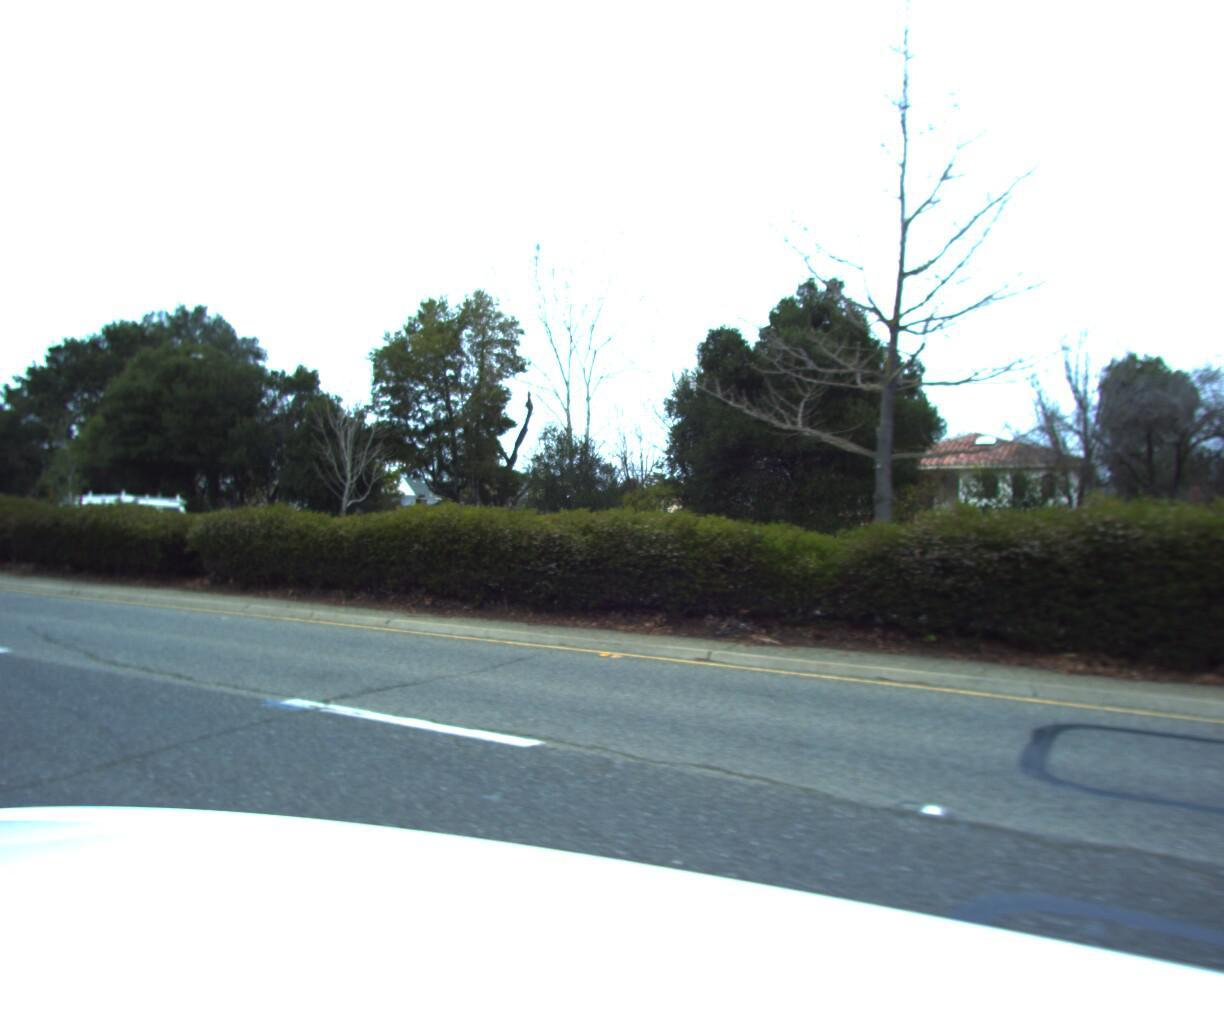car: (44, 489, 189, 561)
